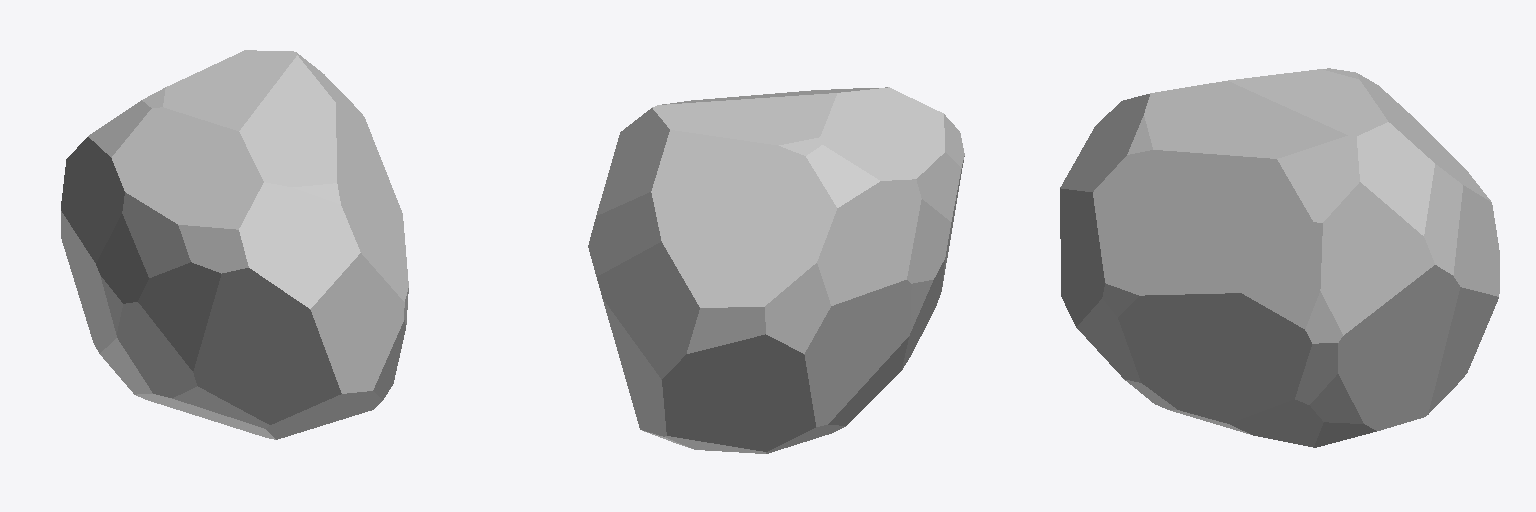
File: middleStone3.obj
The picture shows the model from 3 angles: view 1: azimuth 30°, elevation 25°; view 2: azimuth 150°, elevation 25°; view 3: azimuth 270°, elevation 25°; orthographic projection.
Visible parts, largest first — view 1: Cube; view 2: Cube; view 3: Cube.
Boxes of the visible parts, box(x1,y1,x2,y2) form: Cube: box(61, 50, 408, 439); Cube: box(588, 87, 964, 453); Cube: box(1060, 68, 1499, 447).
Bounding box in the file's own units: 71.85 × 72.18 × 91.42.